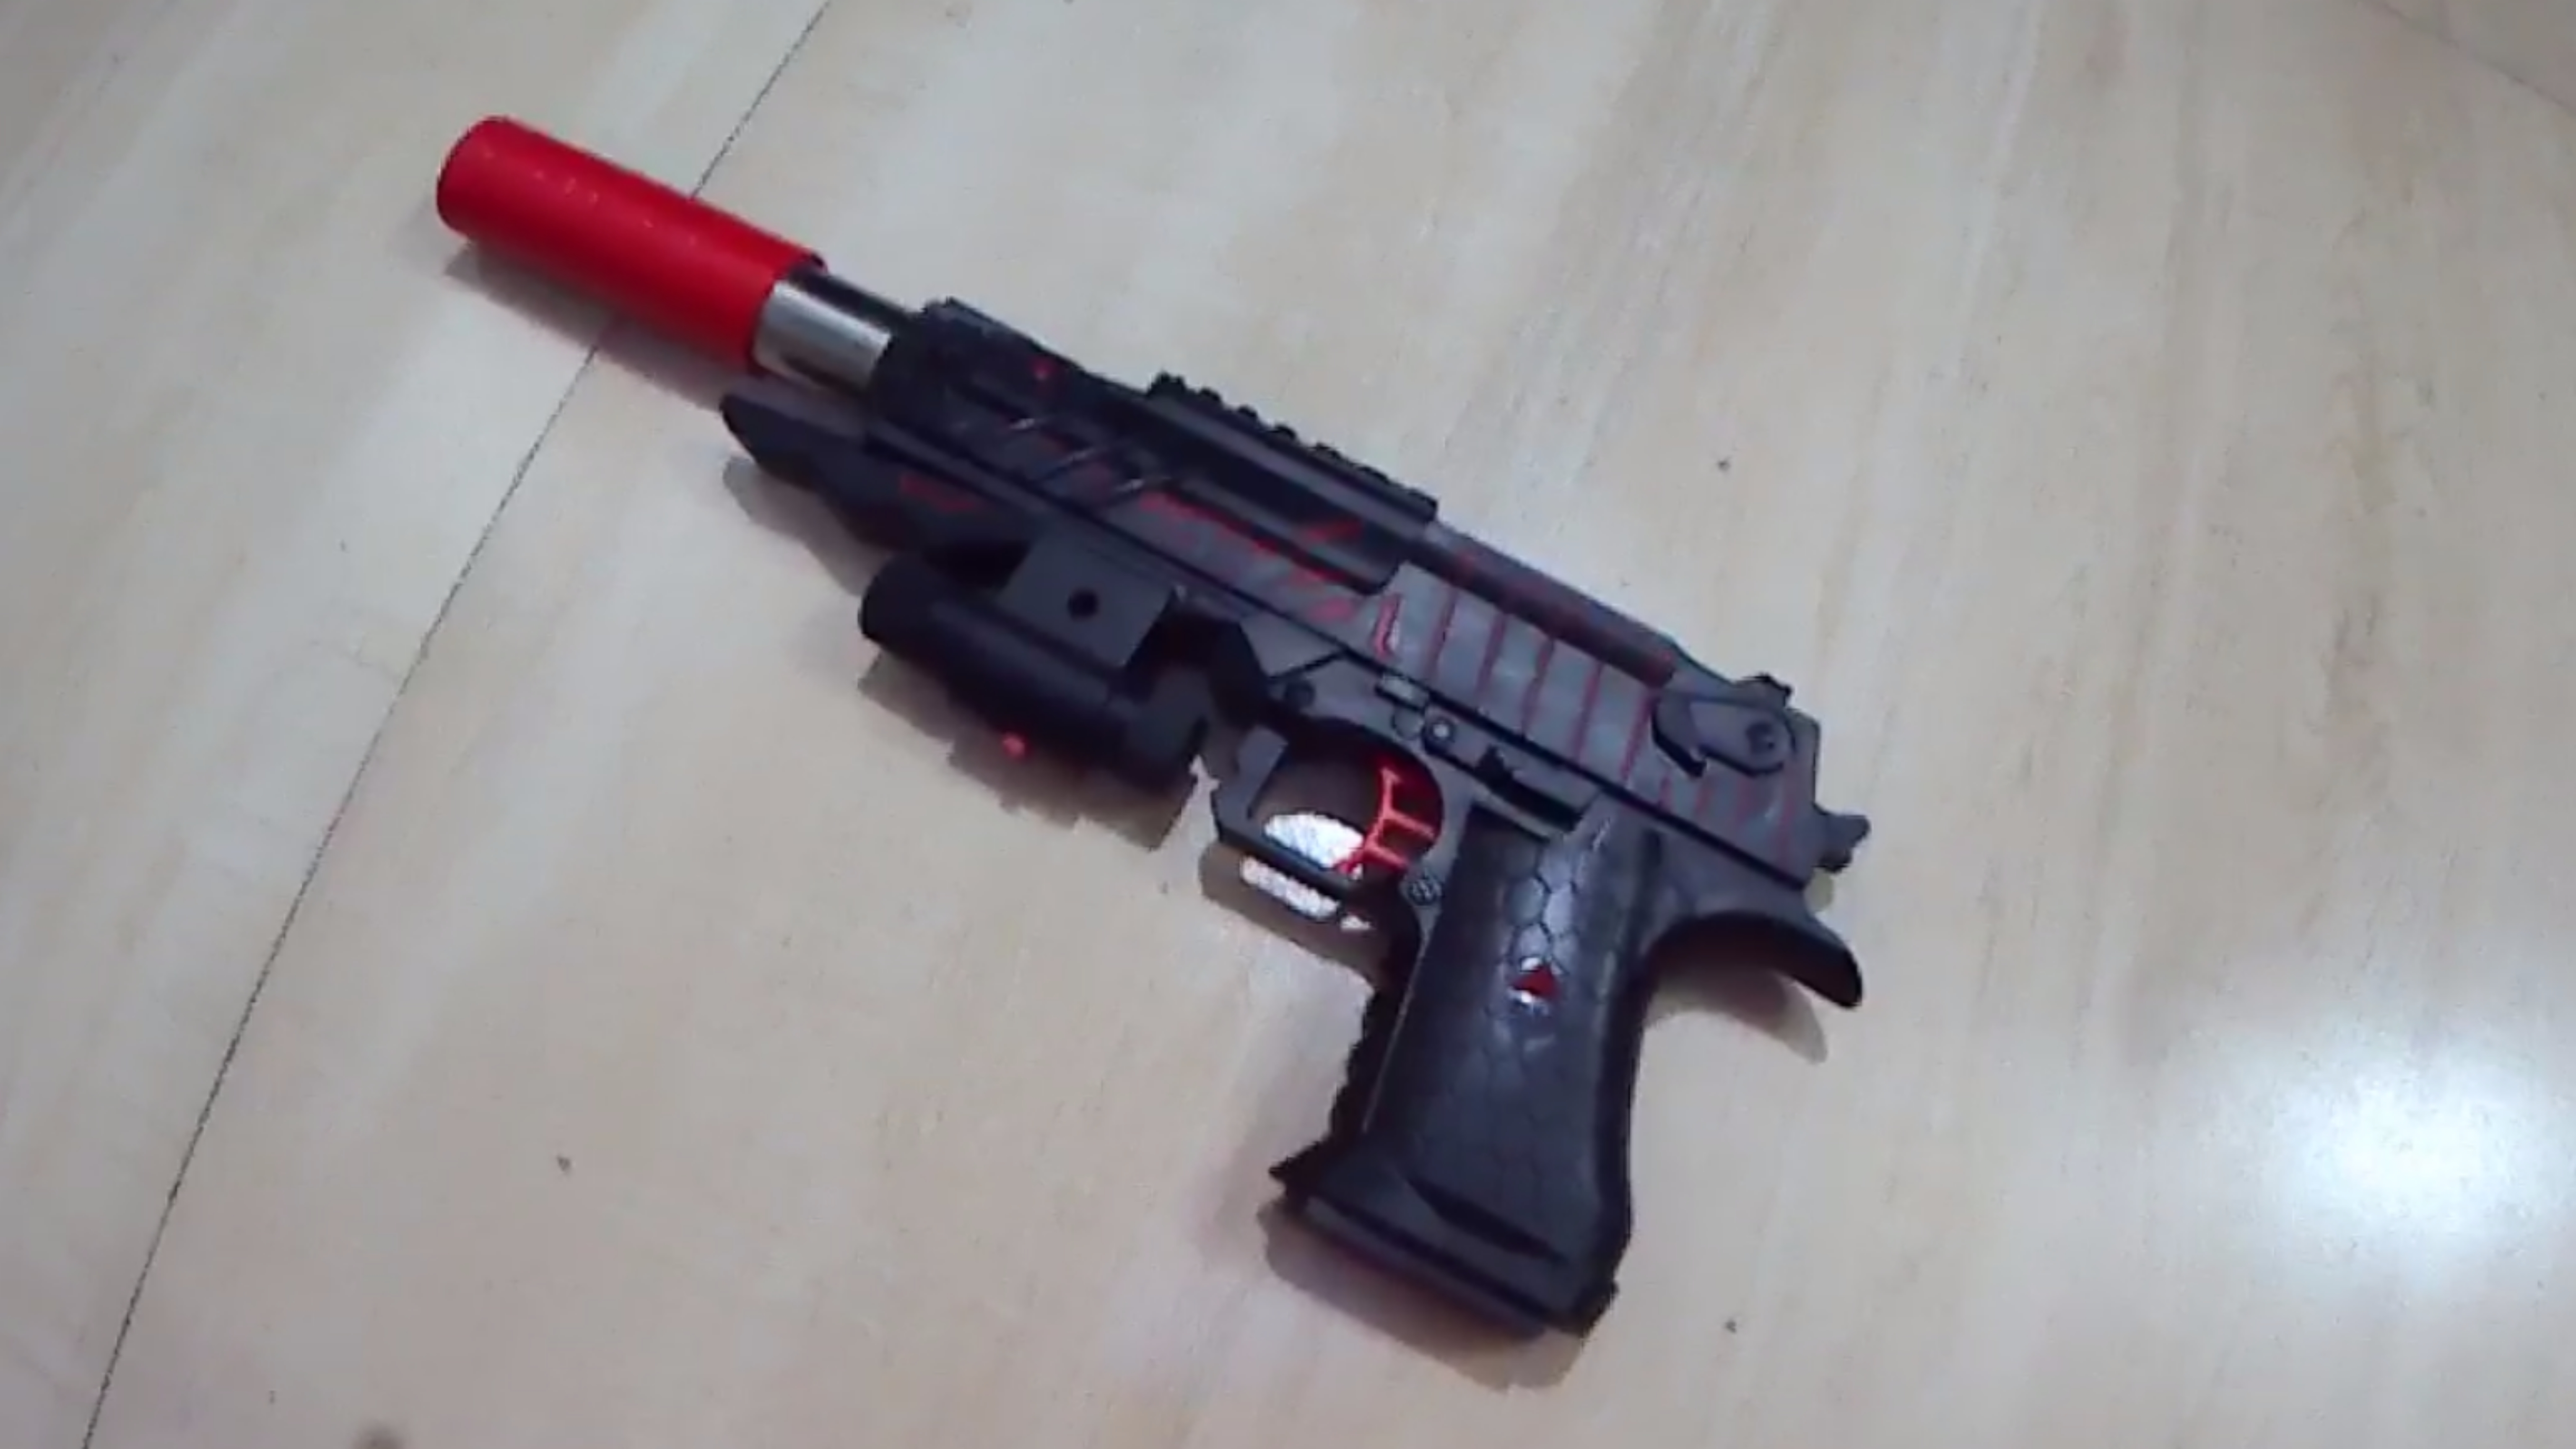handgun: (361, 96, 1886, 1353)
